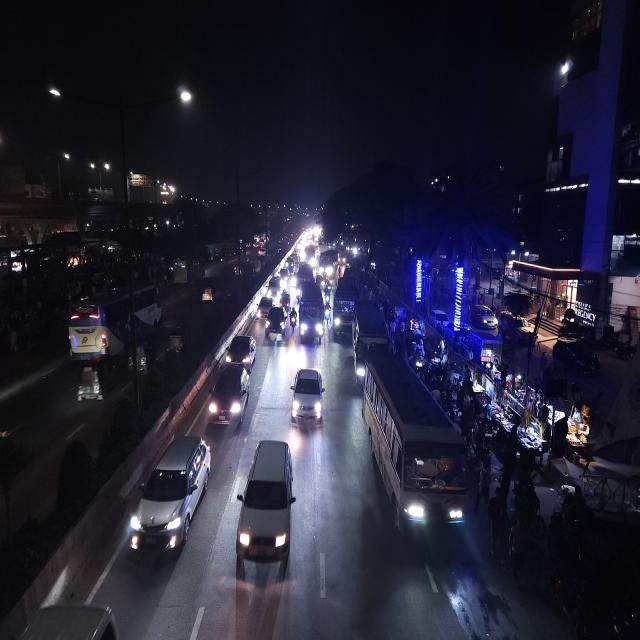bus: (361, 350, 471, 561), (351, 300, 388, 385), (65, 301, 111, 360), (297, 278, 325, 347), (332, 274, 359, 342), (174, 256, 200, 286), (319, 248, 337, 283)
car: (126, 432, 213, 566), (236, 435, 297, 569), (206, 361, 251, 431), (290, 364, 324, 429), (224, 332, 258, 367), (264, 304, 287, 346), (254, 294, 274, 322), (430, 306, 450, 331), (268, 274, 282, 297)
cng: (76, 352, 118, 404), (166, 322, 188, 358), (200, 277, 216, 305)
motorcycle: (290, 306, 298, 334)
